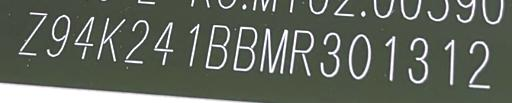letter: (464, 38, 496, 89), (18, 10, 50, 59), (94, 15, 126, 64), (316, 27, 346, 78), (259, 26, 291, 71), (46, 11, 74, 62), (205, 20, 233, 71), (150, 20, 178, 69), (288, 25, 316, 74), (406, 36, 434, 85), (70, 13, 98, 60), (123, 18, 149, 67), (232, 23, 260, 68), (346, 31, 374, 76), (179, 18, 203, 69), (380, 32, 404, 79), (435, 38, 457, 87)
